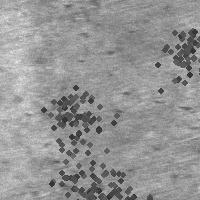rolled-in_scale: (27, 130, 143, 200), (30, 70, 116, 156), (138, 5, 200, 99), (70, 156, 158, 200), (37, 4, 89, 63), (22, 150, 83, 200)
